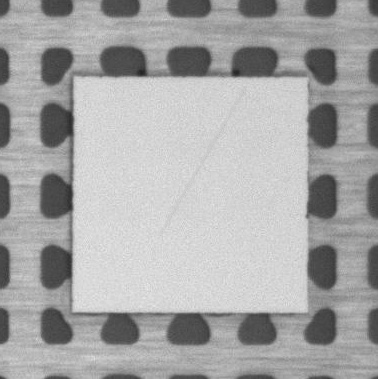DIE_CRACK: (160, 87, 245, 236)
